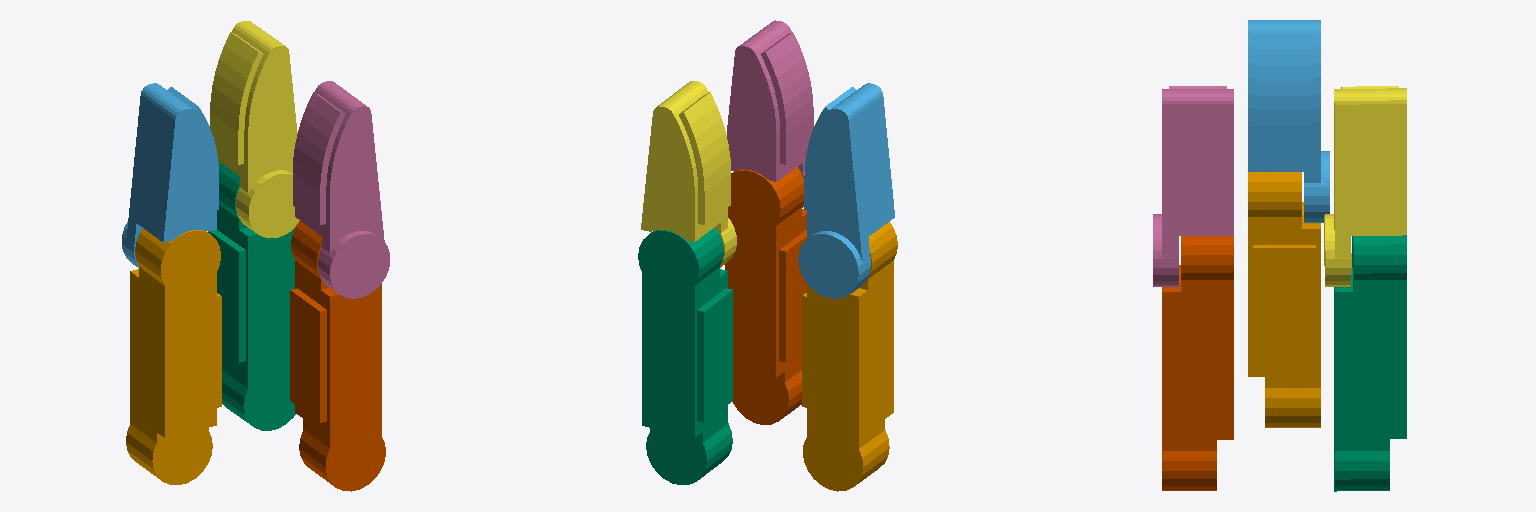
URDF robot description (sdh):
<?xml version="1.0"?>
<robot name="sdh"
	xmlns:sensor="http://playerstage.sourceforge.net/gazebo/xmlschema/#sensor"
	xmlns:controller="http://playerstage.sourceforge.net/gazebo/xmlschema/#controller"
	xmlns:interface="http://playerstage.sourceforge.net/gazebo/xmlschema/#interface">

	<!-- ################################################################################# -->
	<!-- add links-->
	
	<!-- palm -->
	<link name="link_palm">
		<inertial>
			<origin xyz="0 0 0" rpy="0 0 0"/>
			<mass value="1"/>
			<inertia ixx="1"  ixy="0"  ixz="0" iyy="1" iyz="0" izz="1" />
		</inertial>
		<visual>
			<origin xyz="0 0 0" rpy="0 0 0" />
			<geometry>
				<mesh filename="package://cob3_defs/common/files/meshes/palm.stl" />
			</geometry>
		</visual>
		<collision>
			<origin xyz="0 0 0" rpy="0 0 0" />
			<geometry>
				<mesh filename="package://cob3_defs/common/files/meshes/palm.stl"/>
			</geometry>
		</collision>
	</link>
	
	<!-- finger1 -->
	<link name="link_finger11">
		<inertial>
			<origin xyz="0 0 0" rpy="0 0 0"/>
			<mass value="0.1"/>
			<inertia ixx="1"  ixy="0"  ixz="0" iyy="1" iyz="0" izz="1" />
		</inertial>
		<visual>
			<origin xyz="0 0 0" rpy="0 0 0" />
			<geometry>
				<mesh filename="package://cob3_defs/common/files/meshes/knuckle.stl" />
			</geometry>
		</visual>
		<collision>
			<origin xyz="0 0 0" rpy="0 0 0" />
			<geometry>
				<mesh filename="package://cob3_defs/common/files/meshes/knuckle.stl"/>
			</geometry>
		</collision>
	</link>
	
	<link name="link_finger12">
		<inertial>
			<origin xyz="0 0 0" rpy="0 0 0"/>
			<mass value="0.1"/>
			<inertia ixx="1"  ixy="0"  ixz="0" iyy="1" iyz="0" izz="1" />
		</inertial>
		<visual>
			<origin xyz="0 0 0" rpy="0 0 0" />
			<geometry>
				<mesh filename="package://cob3_defs/common/files/meshes/finger.stl" />
			</geometry>
		</visual>
		<collision>
			<origin xyz="0 0 0" rpy="0 0 0" />
			<geometry>
				<mesh filename="package://cob3_defs/common/files/meshes/finger.stl"/>
			</geometry>
		</collision>
	</link>

	<link name="link_finger13">
		<inertial>
			<origin xyz="0 0 0" rpy="0 0 0"/>
			<mass value="0.1"/>
			<inertia ixx="1"  ixy="0"  ixz="0" iyy="1" iyz="0" izz="1" />
		</inertial>
		<visual>
			<origin xyz="0 0 0" rpy="0 0 0" />
			<geometry>
				<mesh filename="package://cob3_defs/common/files/meshes/finger_tip.stl" />
			</geometry>
		</visual>
		<collision>
			<origin xyz="0 0 0" rpy="0 0 0" />
			<geometry>
				<mesh filename="package://cob3_defs/common/files/meshes/finger_tip.stl"/>
			</geometry>
		</collision>
	</link>

	<!-- finger2 -->
	<link name="link_finger21">
		<inertial>
			<origin xyz="0 0 0" rpy="0 0 0"/>
			<mass value="0.1"/>
			<inertia ixx="1"  ixy="0"  ixz="0" iyy="1" iyz="0" izz="1" />
		</inertial>
		<visual>
			<origin xyz="0 0 0" rpy="0 0 0" />
			<geometry>
				<mesh filename="package://cob3_defs/common/files/meshes/knuckle.stl" />
			</geometry>
		</visual>
		<collision>
			<origin xyz="0 0 0" rpy="1.57079633 0 0" />
			<geometry>
				<mesh filename="package://cob3_defs/common/files/meshes/knuckle.stl"/>
			</geometry>
		</collision>
	</link>

	<link name="link_finger22">
		<inertial>
			<origin xyz="0 0 0" rpy="0 0 0"/>
			<mass value="0.1"/>
			<inertia ixx="1"  ixy="0"  ixz="0" iyy="1" iyz="0" izz="1" />
		</inertial>
		<visual>
			<origin xyz="0 0 0" rpy="0 0 0" />
			<geometry>
				<mesh filename="package://cob3_defs/common/files/meshes/finger.stl" />
			</geometry>
		</visual>
		<collision>
			<origin xyz="0 0 0" rpy="0 0 0" />
			<geometry>
				<mesh filename="package://cob3_defs/common/files/meshes/finger.stl"/>
			</geometry>
		</collision>
	</link>

	<link name="link_finger23">
		<inertial>
			<origin xyz="0 0 0" rpy="0 0 0"/>
			<mass value="0.1"/>
			<inertia ixx="1"  ixy="0"  ixz="0" iyy="1" iyz="0" izz="1" />
		</inertial>
		<visual>
			<origin xyz="0 0 0" rpy="0 0 0" />
			<geometry>
				<mesh filename="package://cob3_defs/common/files/meshes/finger_tip.stl" />
			</geometry>
		</visual>
		<collision>
			<origin xyz="0 0 0" rpy="0 0 0" />
			<geometry>
				<mesh filename="package://cob3_defs/common/files/meshes/finger_tip.stl"/>
			</geometry>
		</collision>
	</link>

	<!-- thumb -->
	<link name="link_thumb1">
		<inertial>
			<origin xyz="0 0 0" rpy="0 0 0"/>
			<mass value="0.1"/>
			<inertia ixx="1"  ixy="0"  ixz="0" iyy="1" iyz="0" izz="1" />
		</inertial>
		<visual>
			<origin xyz="0 0 0" rpy="0 0 0" />
			<geometry>
				<mesh filename="package://cob3_defs/common/files/meshes/knuckle.stl" />
			</geometry>
		</visual>
		<collision>
			<origin xyz="0 0 0" rpy="0 0 0" />
			<geometry>
				<mesh filename="package://cob3_defs/common/files/meshes/knuckle.stl"/>
			</geometry>
		</collision>
	</link>

	<link name="link_thumb2">
		<inertial>
			<origin xyz="0 0 0" rpy="0 0 0"/>
			<mass value="0.1"/>	
			<inertia ixx="1"  ixy="0"  ixz="0" iyy="1" iyz="0" izz="1" />
		</inertial>
		<visual>
			<origin xyz="0 0 0" rpy="0 0 0" />
			<geometry>
				<mesh filename="package://cob3_defs/common/files/meshes/finger.stl" />
			</geometry>
		</visual>
		<collision>
			<origin xyz="0 0 0" rpy="0 0 0" />
			<geometry>
				<mesh filename="package://cob3_defs/common/files/meshes/finger.stl"/>
			</geometry>
		</collision>
	</link>
	
	<link name="link_thumb3">
		<inertial>
			<origin xyz="0 0 0" rpy="0 0 0"/>
			<mass value="0.1"/>
			<inertia ixx="1"  ixy="0"  ixz="0" iyy="1" iyz="0" izz="1" />
		</inertial>
		<visual>
			<origin xyz="0 0 0" rpy="0 0 0" />
			<geometry>
				<mesh filename="package://cob3_defs/common/files/meshes/finger_tip.stl" />
			</geometry>
		</visual>
		<collision>
			<origin xyz="0 0 0" rpy="0 0 0" />
			<geometry>
				<mesh filename="package://cob3_defs/common/files/meshes/finger_tip.stl"/>
			</geometry>
		</collision>
	</link>
	
	<!-- define colors for links -->
	<gazebo reference="link_palm">
		<material>Gazebo/Grey</material>
		<turnGravityOff>false</turnGravityOff>
	</gazebo>
	
	<gazebo reference="link_finger11">
		<material>Gazebo/Black</material>
		<turnGravityOff>false</turnGravityOff>
	</gazebo>
	
	<gazebo reference="link_finger12">
		<material>Gazebo/Red</material>
		<turnGravityOff>false</turnGravityOff>
	</gazebo>
	
	<gazebo reference="link_finger13">
		<material>Gazebo/Blue</material>
		<turnGravityOff>false</turnGravityOff>
	</gazebo>

	<gazebo reference="link_finger21">
		<material>Gazebo/Black</material>
		<turnGravityOff>false</turnGravityOff>
	</gazebo>

	<gazebo reference="link_finger22">
		<material>Gazebo/Red</material>
		<turnGravityOff>false</turnGravityOff>
	</gazebo>

	<gazebo reference="link_finger23">
		<material>Gazebo/Blue</material>
		<turnGravityOff>false</turnGravityOff>
	</gazebo>

	<gazebo reference="link_thumb1">
		<material>Gazebo/Black</material>
		<turnGravityOff>false</turnGravityOff>
	</gazebo>
	
	<gazebo reference="link_thumb2">
		<material>Gazebo/Red</material>
		<turnGravityOff>false</turnGravityOff>
	</gazebo>

	<gazebo reference="link_thumb3">
		<material>Gazebo/Blue</material>
		<turnGravityOff>false</turnGravityOff>
	</gazebo>

	<!-- ################################################################################# -->
	<!-- add joints -->

	<!-- palm -->

	<!-- finger1 -->
	<joint name="joint_palm_finger11" type="revolute">
		<origin xyz="0.01905 0.033 0.0745" rpy="0 0 3.159265" />
		<parent link="link_palm"/>
		<child link="link_finger11"/>
		<axis xyz="0 0 1" />
	    <calibration reference_position="0.0"/>
		<limit effort="100" lower="-2" upper="2" velocity="5"/> <!-- rads. effort is N-m applied force. vel is rad/s. -->
	</joint>
 
	<joint name="joint_finger11_finger12" type="revolute">
		<origin xyz="0 0 0.0165" rpy="0 0 0" />
		<parent link="link_finger11"/>
		<child link="link_finger12"/>
		<axis xyz="0 1 0" />
	    <calibration reference_position="0.0"/>
		<limit effort="100" lower="-2" upper="2" velocity="5"/> <!-- rads. effort is N-m applied force. vel is rad/s. -->
	</joint>
 
	<joint name="joint_finger12_finger13" type="revolute">
		<origin xyz="0 0 0.0865" rpy="0 0 0" />
		<parent link="link_finger12"/>
		<child link="link_finger13"/>
		<axis xyz="0 1 0" />
	    <calibration reference_position="0.0"/>
		<limit effort="100" lower="-2" upper="2" velocity="5"/> <!-- rads. effort is N-m applied force. vel is rad/s. -->
	</joint>
 
	<!-- finger2 -->
	<joint name="joint_palm_finger21" type="revolute">
		<origin xyz="0.01905 -0.033 0.0745" rpy="0 0 3.14159265" />
		<parent link="link_palm"/>
		<child link="link_finger21"/>
		<axis xyz="0 0 1" />
	    <calibration reference_position="0.0"/>
		<limit effort="100" lower="-2" upper="2" velocity="5"/> <!-- rads. effort is N-m applied force. vel is rad/s. -->
	</joint>
 
	<joint name="joint_finger21_finger22" type="revolute">
		<origin xyz="0 0 0.0165" rpy="0 0 0" />
		<parent link="link_finger21"/>
		<child link="link_finger22"/>
		<axis xyz="0 1 0" />
	    <calibration reference_position="0.0"/>
		<limit effort="100" lower="-2" upper="2" velocity="5"/> <!-- rads. effort is N-m applied force. vel is rad/s. -->
	</joint>
 
	<joint name="joint_finger22_finger23" type="revolute">
		<origin xyz="0 0 0.0865" rpy="0 0 0" />
		<parent link="link_finger22"/>
		<child link="link_finger23"/>
		<axis xyz="0 1 0" />
	    <calibration reference_position="0.0"/>
		<limit effort="100" lower="-2" upper="2" velocity="5"/> <!-- rads. effort is N-m applied force. vel is rad/s. -->
	</joint>
 
	<!-- thumb -->
	<joint name="joint_palm_thumb1" type="revolute">
		<origin xyz="-0.03811 0 0.0745 " rpy="0 0 0" />
		<parent link="link_palm"/>
		<child link="link_thumb1"/>
		<axis xyz="0 0 1" />
	    <calibration reference_position="0.0"/>
		<limit effort="100" lower="-2" upper="2" velocity="5"/> <!-- rads. effort is N-m applied force. vel is rad/s. -->
	</joint>
 
	<joint name="joint_thumb1_thumb2" type="revolute">
		<origin xyz="0 0 0.0165" rpy="0 0 0" />
		<parent link="link_thumb1"/>
		<child link="link_thumb2"/>
		<axis xyz="0 1 0" />
	    <calibration reference_position="0.0"/>
		<limit effort="100" lower="-2" upper="2" velocity="5"/> <!-- rads. effort is N-m applied force. vel is rad/s. -->
	</joint>
 
	<joint name="joint_thumb2_thumb3" type="revolute">
		<origin xyz="0 0 0.0865" rpy="0 0 0" />
		<parent link="link_thumb2"/>
		<child link="link_thumb3"/>
		<axis xyz="0 1 0" />
	    <calibration reference_position="0.0"/>
		<limit effort="100" lower="-2" upper="2" velocity="5"/> <!-- rads. effort is N-m applied force. vel is rad/s. -->
	</joint>

	<!-- ################################################################################# -->
	<!-- add transmissions -->
	
	<!-- finger1 -->
	<transmission name="trans_palm_finger11" type="SimpleTransmission">
		<actuator name="motor_palm_finger11"/>
		<joint name="joint_palm_finger11"/>
		<mechanicalReduction>1</mechanicalReduction>
	</transmission>
	
	<transmission name="trans_finger11_finger12" type="SimpleTransmission">
		<actuator name="motor_finger11_finger12"/>
		<joint name="joint_finger11_finger12"/>
		<mechanicalReduction>1</mechanicalReduction>
	</transmission>
	
	<transmission name="trans_finger12_finger13" type="SimpleTransmission">
		<actuator name="motor_finger12_finger13"/>
		<joint name="joint_finger12_finger13"/>
		<mechanicalReduction>1</mechanicalReduction>
	</transmission>
	
	<!-- finger2 -->
	<transmission name="trans_palm_finger21" type="SimpleTransmission">
		<actuator name="motor_palm_finger21"/>
		<joint name="joint_palm_finger21"/>
		<mechanicalReduction>1</mechanicalReduction>
	</transmission>
	
	<transmission name="trans_finger21_finger22" type="SimpleTransmission">
		<actuator name="motor_finger21_finger22"/>
		<joint name="joint_finger21_finger22"/>
		<mechanicalReduction>1</mechanicalReduction>
	</transmission>
	
	<transmission name="trans_finger22_finger23" type="SimpleTransmission">
		<actuator name="motor_finger22_finger23"/>
		<joint name="joint_finger22_finger23"/>
		<mechanicalReduction>1</mechanicalReduction>
	</transmission>
	
	<!-- thumb -->
	<transmission name="trans_palm_thumb1" type="SimpleTransmission">
		<actuator name="motor_palm_thumb1"/>
		<joint name="joint_palm_thumb1"/>
		<mechanicalReduction>1</mechanicalReduction>
	</transmission>
	
	<transmission name="trans_thumb1_thumb2" type="SimpleTransmission">
		<actuator name="motor_thumb1_thumb2"/>
		<joint name="joint_thumb1_thumb2"/>
		<mechanicalReduction>1</mechanicalReduction>
	</transmission>
	
	<transmission name="trans_thumb2_thumb3" type="SimpleTransmission">
		<actuator name="motor_thumb2_thumb3"/>
		<joint name="joint_thumb2_thumb3"/>
		<mechanicalReduction>1</mechanicalReduction>
	</transmission>

</robot>

--- Render facts (derived) ---
3 views of the same robot in one strip: view 1: azimuth 30°, elevation 25°; view 2: azimuth 150°, elevation 25°; view 3: azimuth 270°, elevation 25° (orthographic).
Robot: sdh — 10 links, 9 joints (9 revolute); root link link_palm; default pose: every joint at zero.
Links seen in each view (by area): view 1: link_thumb2, link_finger22, link_finger23, link_finger12, link_finger13, link_thumb3; view 2: link_finger12, link_thumb2, link_finger22, link_thumb3, link_finger13, link_finger23; view 3: link_thumb2, link_finger12, link_finger22, link_thumb3, link_finger13, link_finger23.
Boxes of the visible links, box(x1,y1,x2,y2) form: link_thumb2: box(126, 228, 221, 484); link_finger22: box(290, 221, 385, 491); link_finger23: box(293, 81, 389, 298); link_finger12: box(208, 161, 295, 430); link_finger13: box(210, 21, 299, 237); link_thumb3: box(122, 83, 218, 267); link_finger12: box(638, 227, 732, 484); link_thumb2: box(802, 222, 897, 491); link_finger22: box(725, 167, 806, 424); link_thumb3: box(798, 83, 894, 298); link_finger13: box(641, 81, 736, 267); link_finger23: box(727, 20, 813, 207); link_thumb2: box(1248, 172, 1320, 427); link_finger12: box(1334, 235, 1406, 491); link_finger22: box(1162, 236, 1233, 490); link_thumb3: box(1248, 20, 1329, 222); link_finger13: box(1324, 86, 1406, 286); link_finger23: box(1153, 86, 1233, 286).
Bounding box of the posed robot: 0.0854 × 0.0976 × 0.1689 m (x, y, z).
Meshes: 4 distinct files referenced, 6 mesh visuals loaded (2 binary STL); not drawn: 4 (reference not matched to a file when rendering).